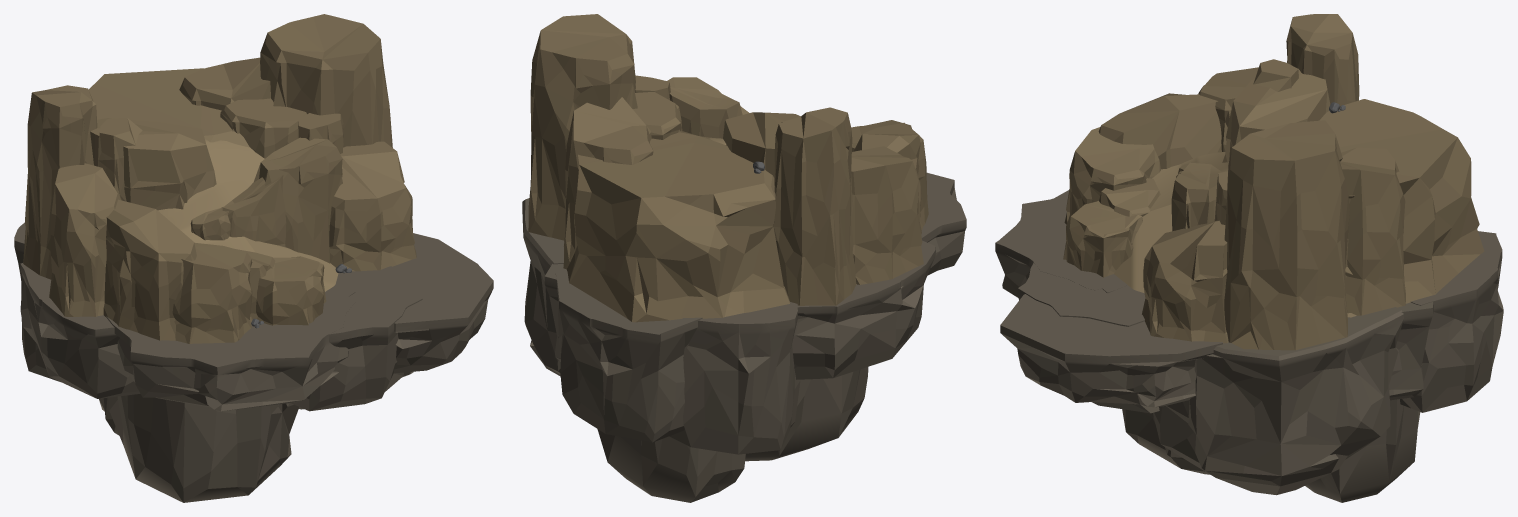
Rendered from NEPlateauIslandV2.fbx.
3 renders of one model, left to right at view 1: azimuth 30°, elevation 25°; view 2: azimuth 150°, elevation 25°; view 3: azimuth 270°, elevation 25°, orthographic. The views are drawn at different scales.
Parts seen in each view (by area): view 1: CombinedObject; view 2: CombinedObject; view 3: CombinedObject.
Boxes of the visible parts, left/top/right/bottom form: CombinedObject: left=14, top=14, right=493, bottom=502; CombinedObject: left=522, top=14, right=966, bottom=502; CombinedObject: left=995, top=14, right=1503, bottom=502.
Size of the model in its own units: 33.29 by 32.98 by 38.01.
